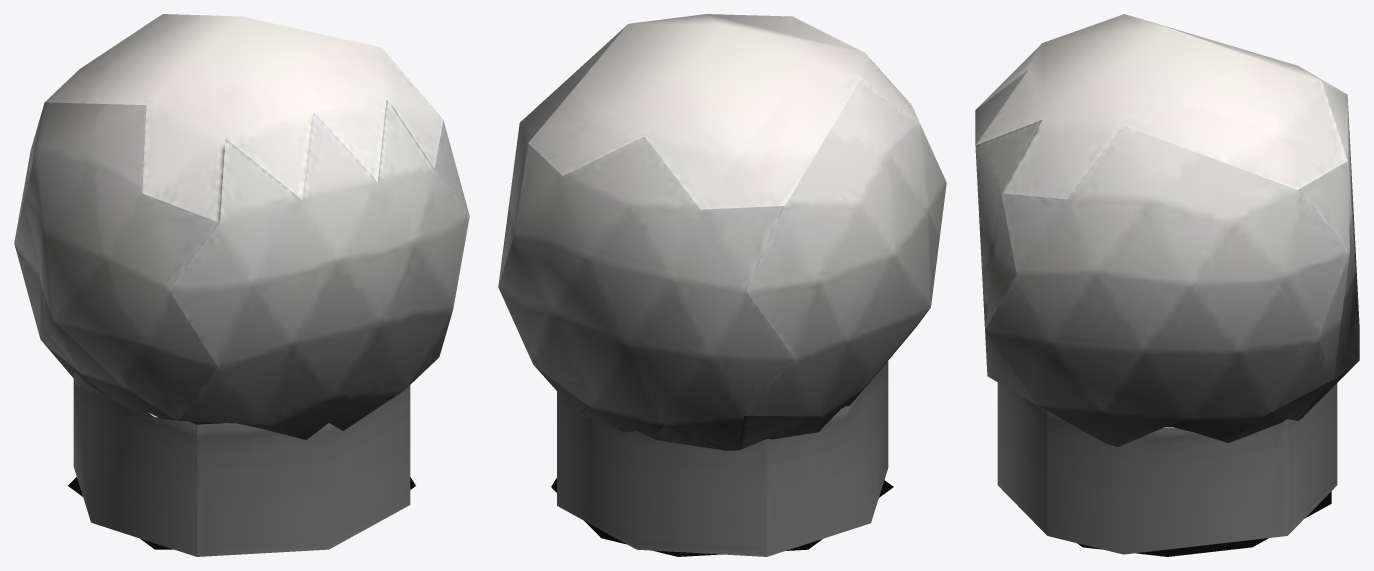
Rendered from radome.glb.
3 views of the same model, side by side, from view 1: azimuth 30°, elevation 25°; view 2: azimuth 150°, elevation 25°; view 3: azimuth 270°, elevation 25° (orthographic). The views are drawn at different scales.
Visible parts, largest first — view 1: guam.layer; view 2: guam.layer; view 3: guam.layer.
Part boxes in pixels (<box>): guam.layer: <box>14,14,469,556</box>; guam.layer: <box>498,14,946,556</box>; guam.layer: <box>975,14,1359,556</box>.
Size of the model in its own units: 18.34 by 22 by 16.73.
1 material, 1 textured.
